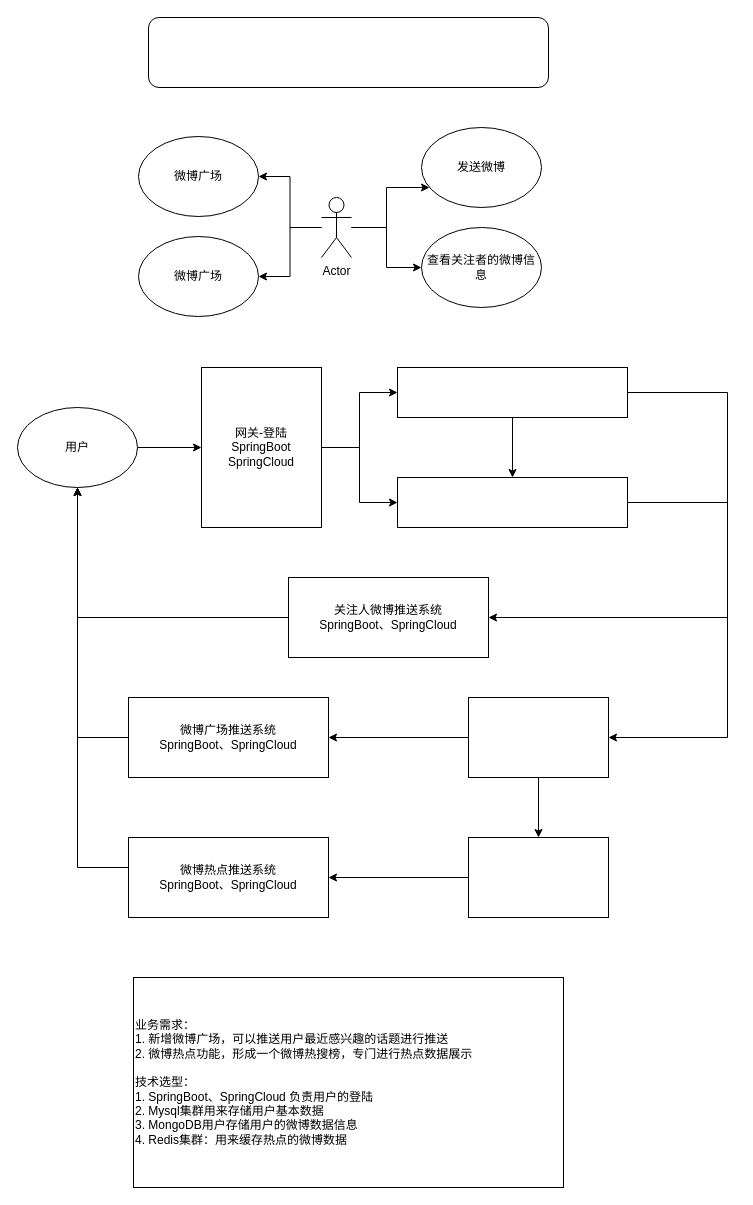
The diagram is 753 pixels wide and 1205 high, and some of its shapes have lost their labels. The shapes that lost their labels are listed below. From the top down, each one's centre as x and y in pixels, then its label:
At pixel 348 52: "第二版：微博设计".
At pixel 512 392: "用户数据 Mysql集群".
At pixel 512 502: "微博数据 MongoDB 集群".
At pixel 538 737: "微博广场数据 Redis缓存集群".
At pixel 538 877: "微博热搜 Redis缓存".
